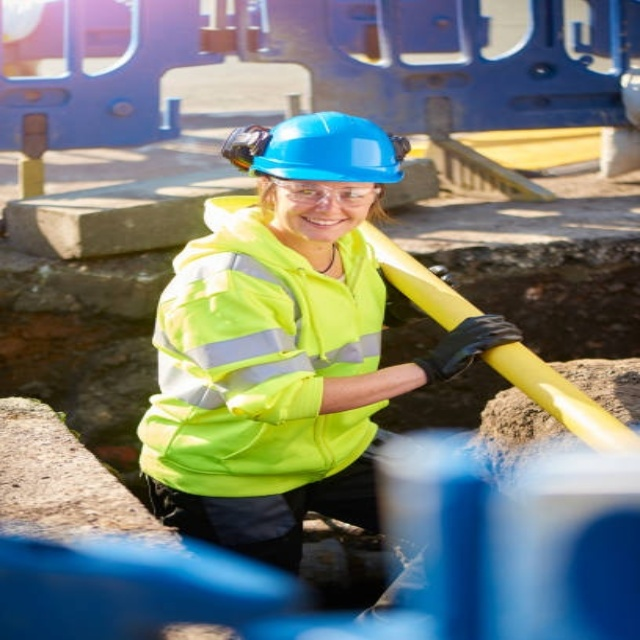Gafas: (265, 176, 383, 208)
Guantes: (413, 314, 523, 382)
Sin_mascara: (293, 209, 359, 237)
